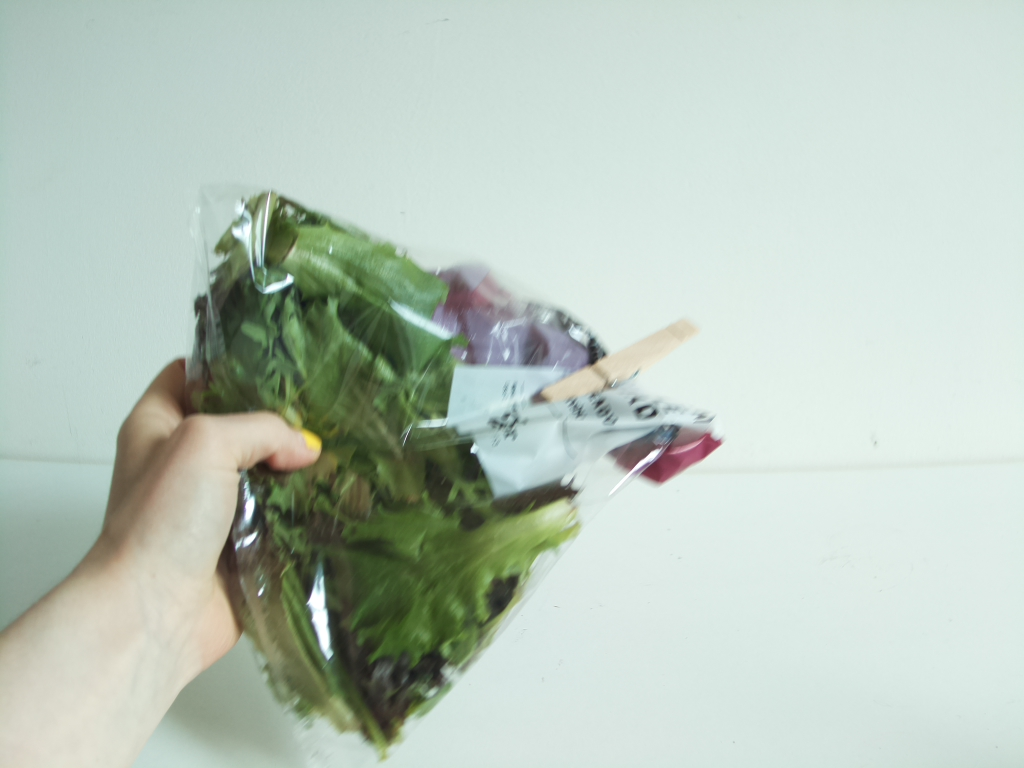salad: (194, 187, 722, 752)
